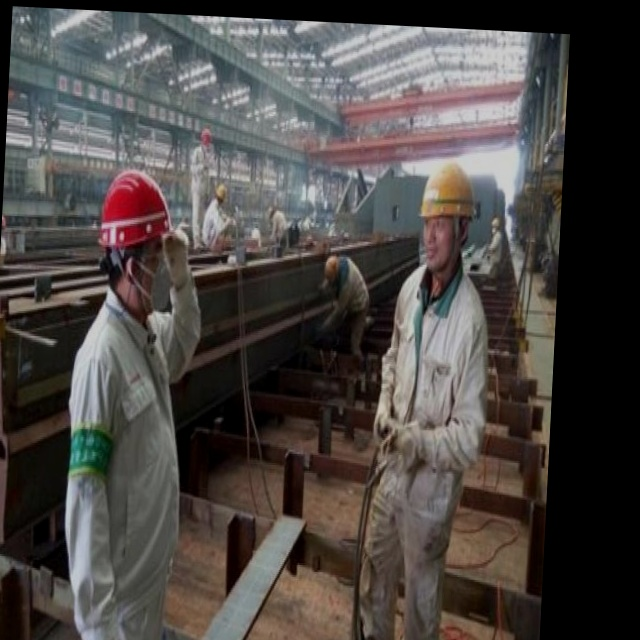Con_Casco: (415, 159, 476, 275)
